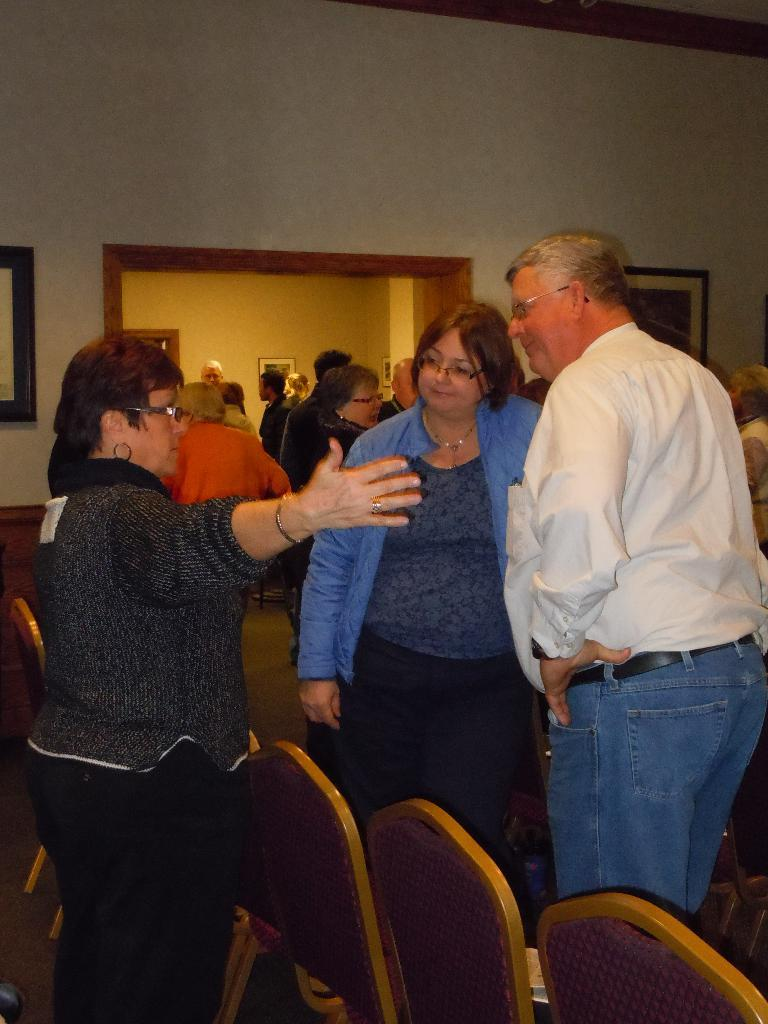Chair: (217, 740, 390, 1023), (360, 798, 555, 1023), (539, 889, 767, 1023), (9, 599, 67, 938), (209, 884, 340, 1023)
